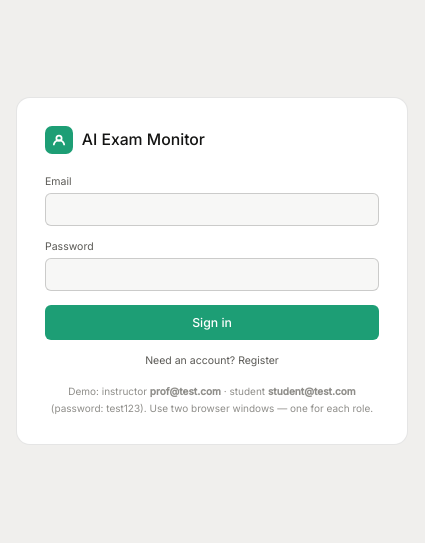
Test case: Login › shows a pending notice instead of navigating when registration needs approval
Click the button "Need an account? Register".
click(212, 361)  # box [45,354,379,368]
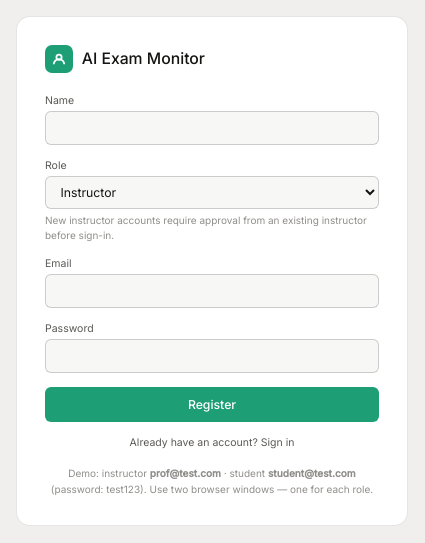
Type "New Prof" into the field below "Name".
click(212, 128); type("New Prof")  # box [45,111,379,145]
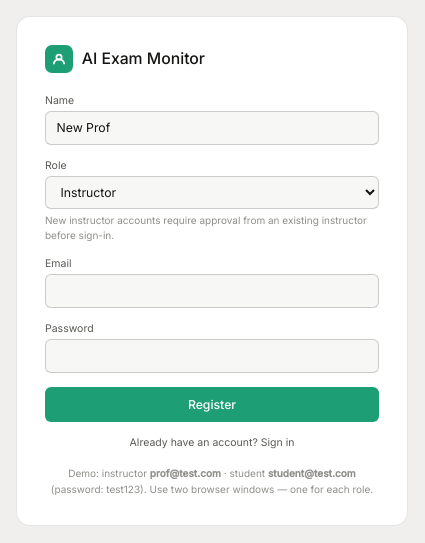
Type "new@test.com" into the field below "Email".
click(212, 291); type("new@test.com")  # box [45,274,379,308]
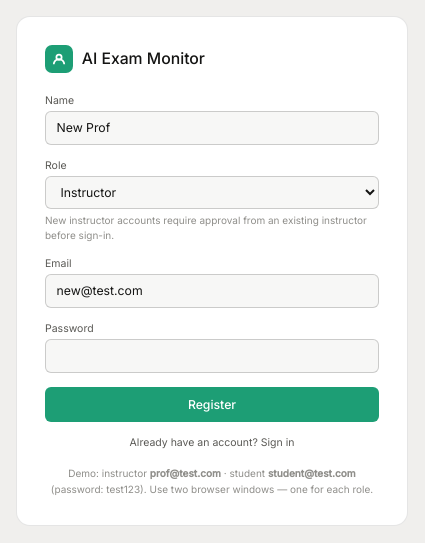
Type "test123" into the password field.
click(212, 356); type("test123")  # box [45,339,379,373]
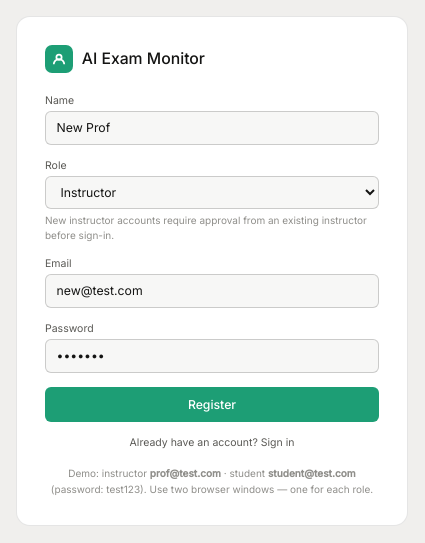
Click the button "Register".
click(212, 404)  # box [45,387,379,422]
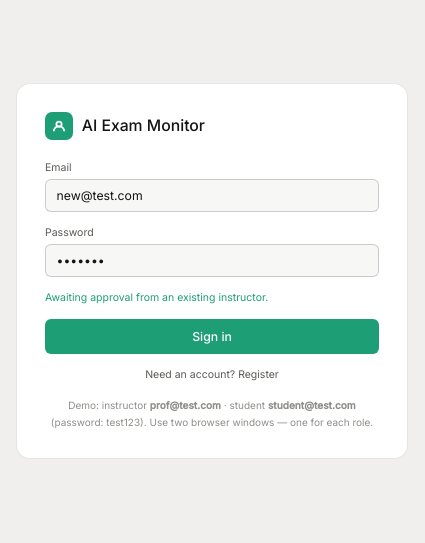
Result: the text "Awaiting approval from an existing instructor." is shown at [45,291,268,304]
Result: the button "Sign in" is shown at [45,319,379,354]
